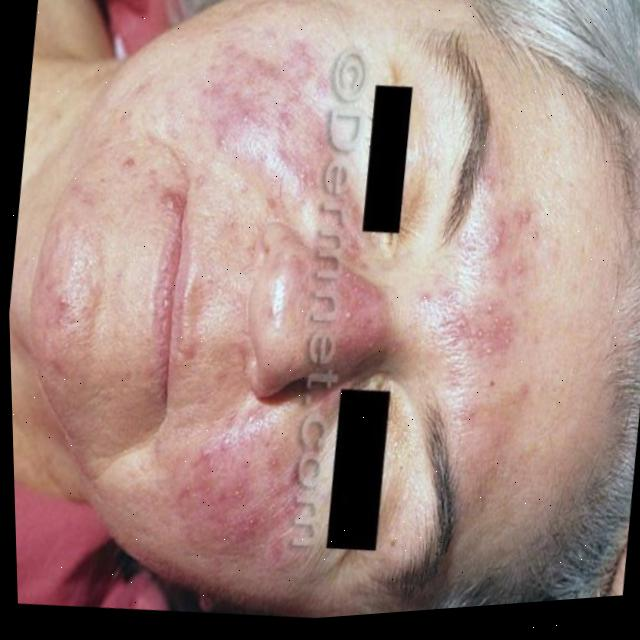Rosacea: (171, 15, 389, 272), (153, 382, 335, 594), (418, 173, 546, 401), (12, 157, 122, 409), (263, 236, 410, 397)
